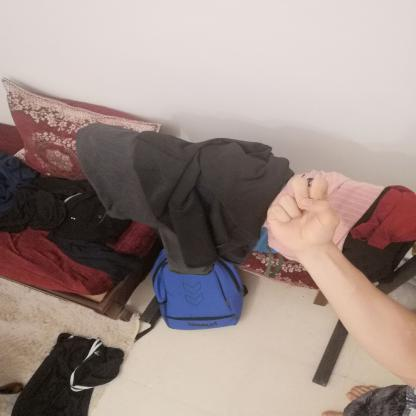QAAF: (255, 167, 349, 266)
